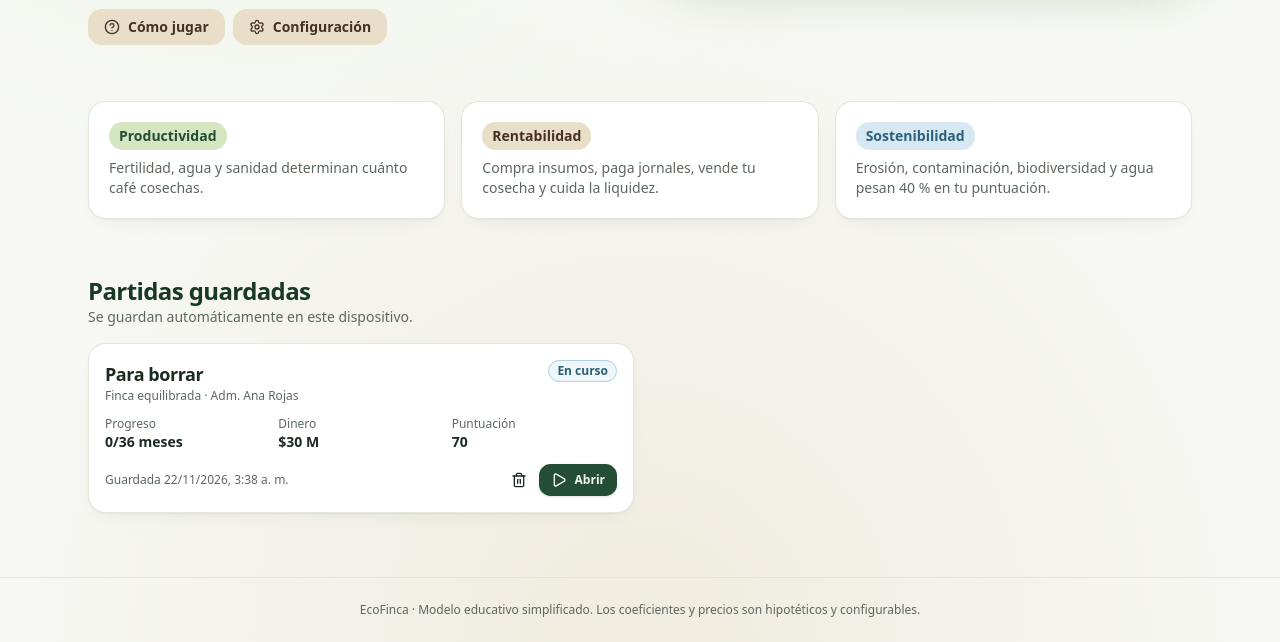
Test: Pantalla de inicio › pide confirmación antes de eliminar una partida
This screenshot has width=1280, height=642.
(page scrolled)
What coordinates should you click on to do the following:
click the button named "Eliminar Para borrar"
I would click on:
 (519, 480)
Its box is [503,464,535,496].
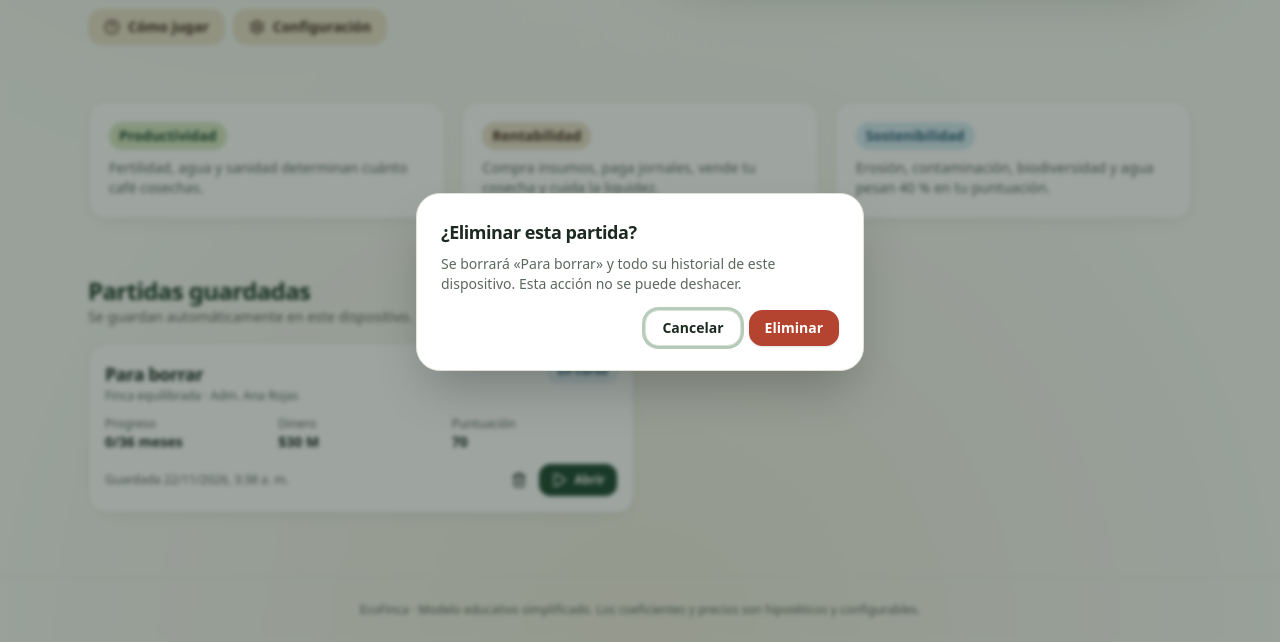
Expected: the text "no se puede deshacer" is shown, [441,254,775,293]
What coordinates should you click on to do the following:
click the button "Eliminar"
I would click on:
 (794, 328)
Its box is [749,310,839,346].
(page scrolled)
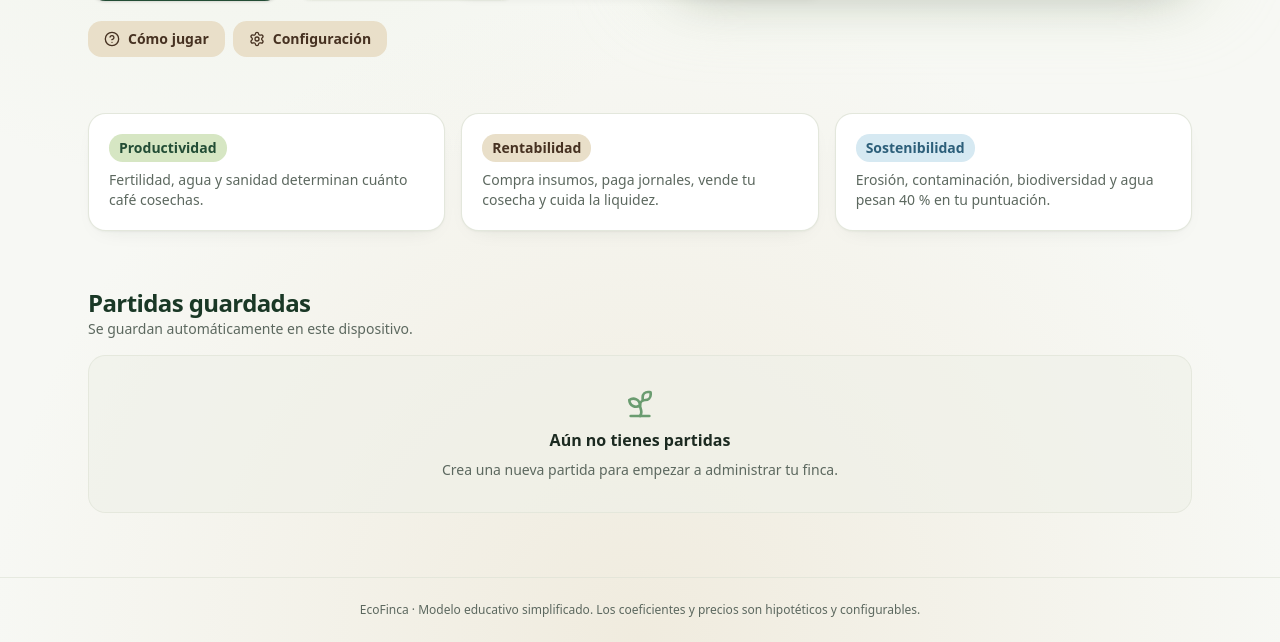
Expected: the heading "Para borrar" is gone
